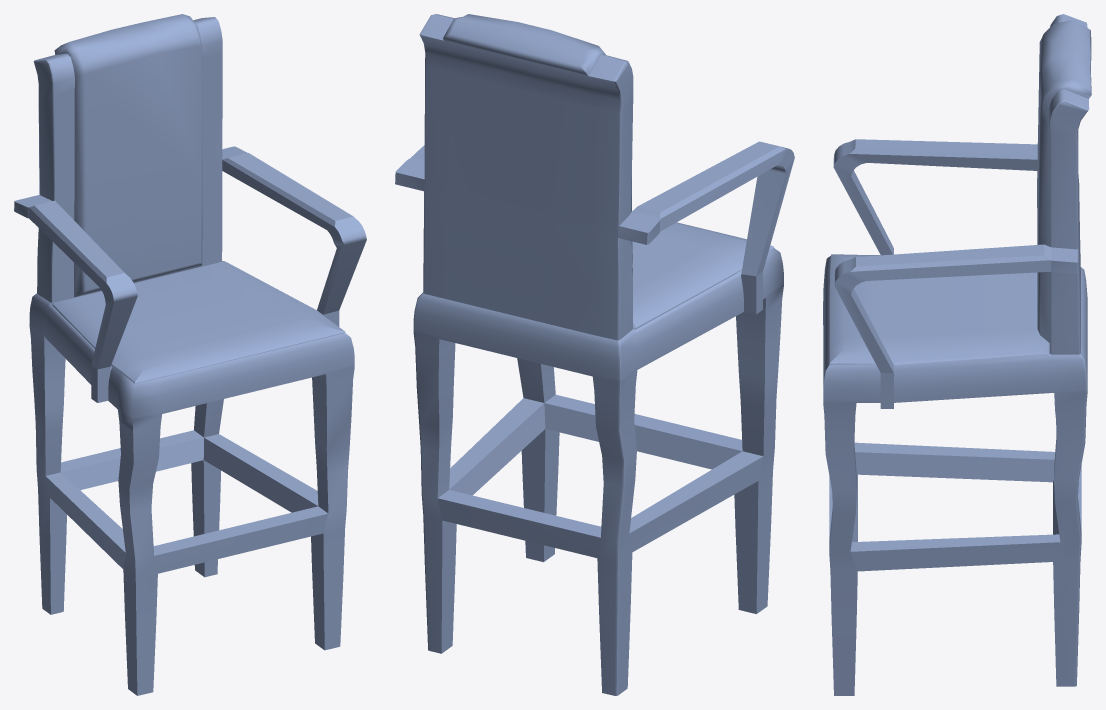
The model's file is PokerChair02.fbx.
3 views of the same model, side by side, from view 1: azimuth 30°, elevation 25°; view 2: azimuth 150°, elevation 25°; view 3: azimuth 270°, elevation 25° (orthographic). The views are drawn at different scales.
Visible parts, largest first — view 1: PokerChairs01_Chair; view 2: PokerChairs01_Chair; view 3: PokerChairs01_Chair.
Boxes of the visible parts, x1,y1,x2,y2 form: PokerChairs01_Chair: [14, 14, 366, 695]; PokerChairs01_Chair: [395, 14, 794, 695]; PokerChairs01_Chair: [823, 14, 1091, 695].
Size of the model in its own units: 61.87 by 131 by 53.61.
